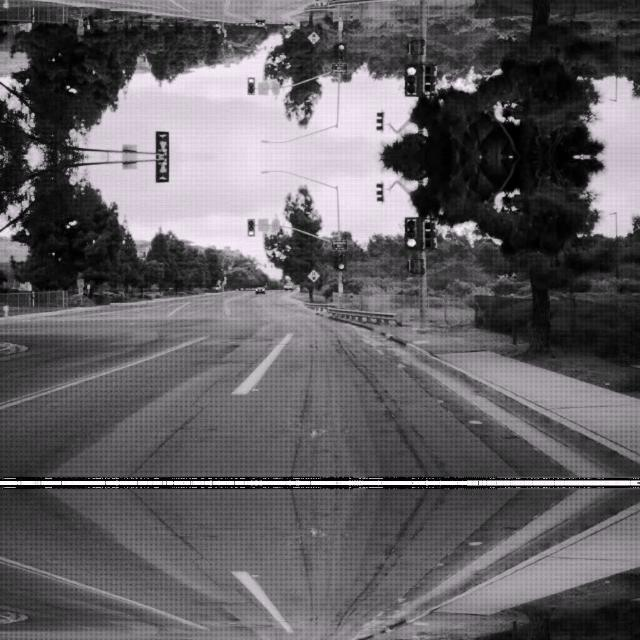signalAhead: (306, 266, 320, 282), (306, 30, 320, 46)
